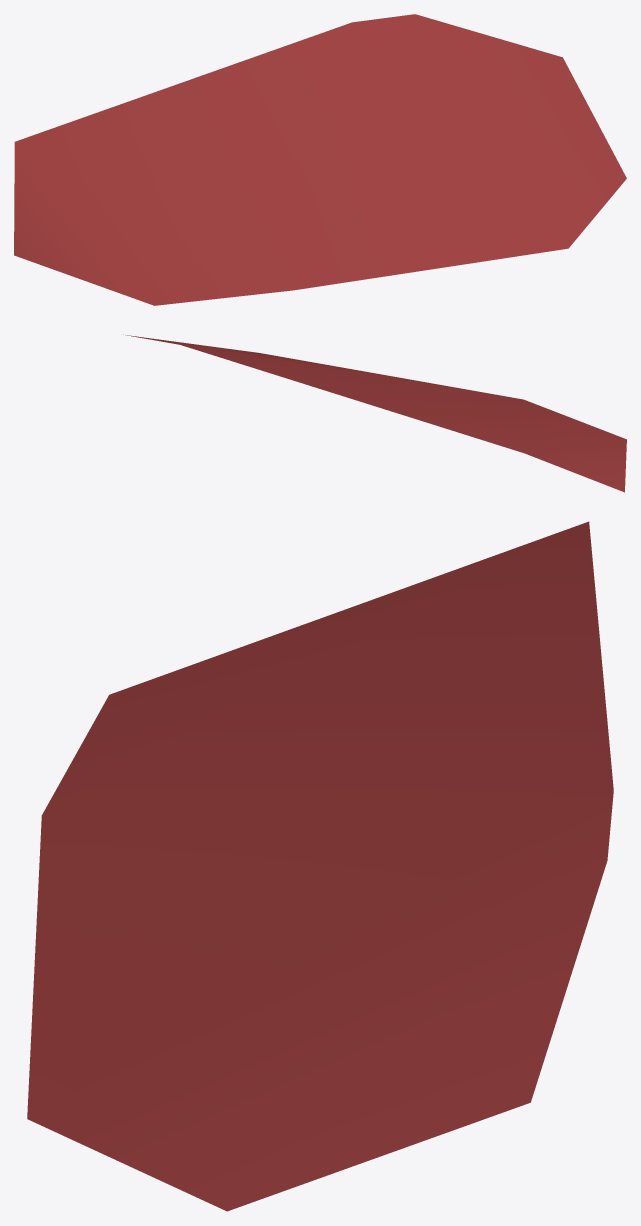
Rendered from flexor-digitorum-profundus-e2r.glb.
The picture shows the model from 3 angles, top to bottom: view 1: azimuth 30°, elevation 25°; view 2: azimuth 150°, elevation 25°; view 3: azimuth 270°, elevation 25°; orthographic projection. The views are drawn at different scales.
Visible parts, largest first — view 1: Flexor digitorum profundus.e2r; view 2: Flexor digitorum profundus.e2r; view 3: Flexor digitorum profundus.e2r.
Part boxes in pixels (x1,y1,x2,y2): Flexor digitorum profundus.e2r: (14, 14, 626, 305); Flexor digitorum profundus.e2r: (123, 334, 626, 492); Flexor digitorum profundus.e2r: (27, 521, 613, 1211).
Size of the model in its own units: 0.00383 by 0.000838 by 0.00169.
